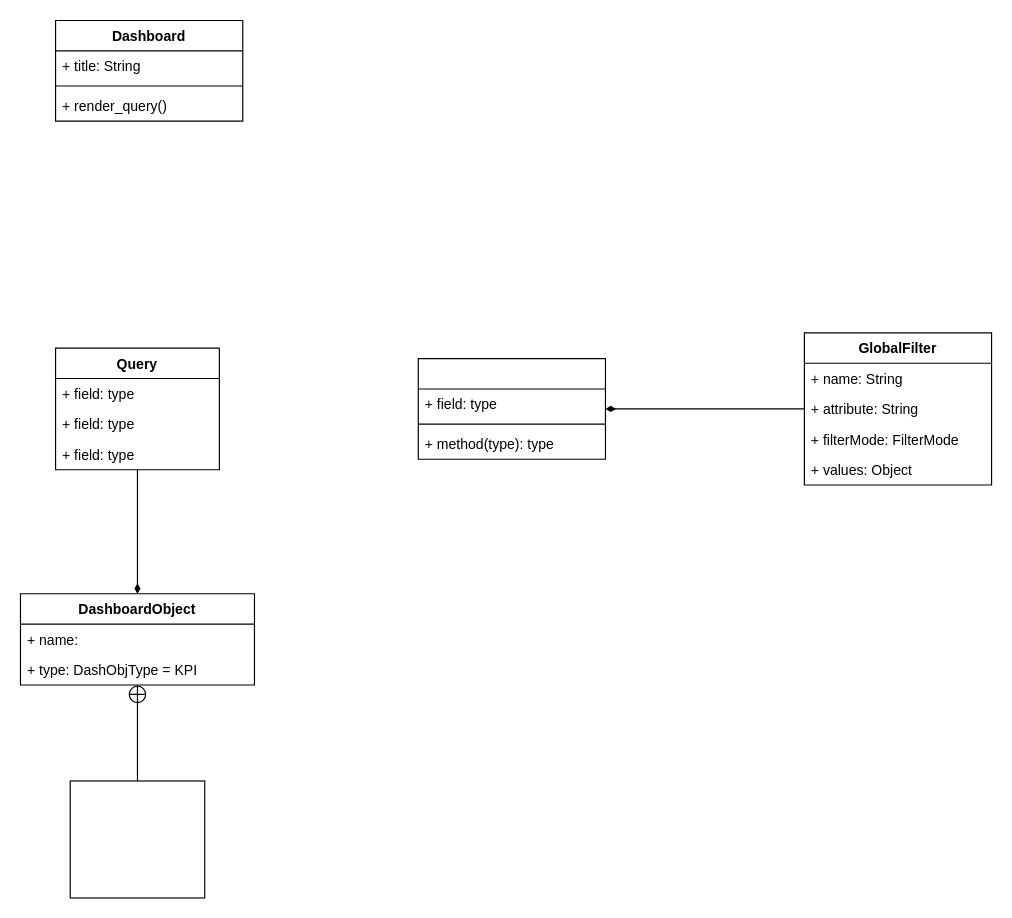
Some shapes in this 1012 by 918 pixel diagram are drawn without their labels. The box of each missing label's shape, as (x1, y1, x2, y2) in pixels:
<enumeration> DashObjType LinePlot HistPlot KPI: (69, 780, 205, 898)
QueryCompiler: (417, 357, 605, 459)
